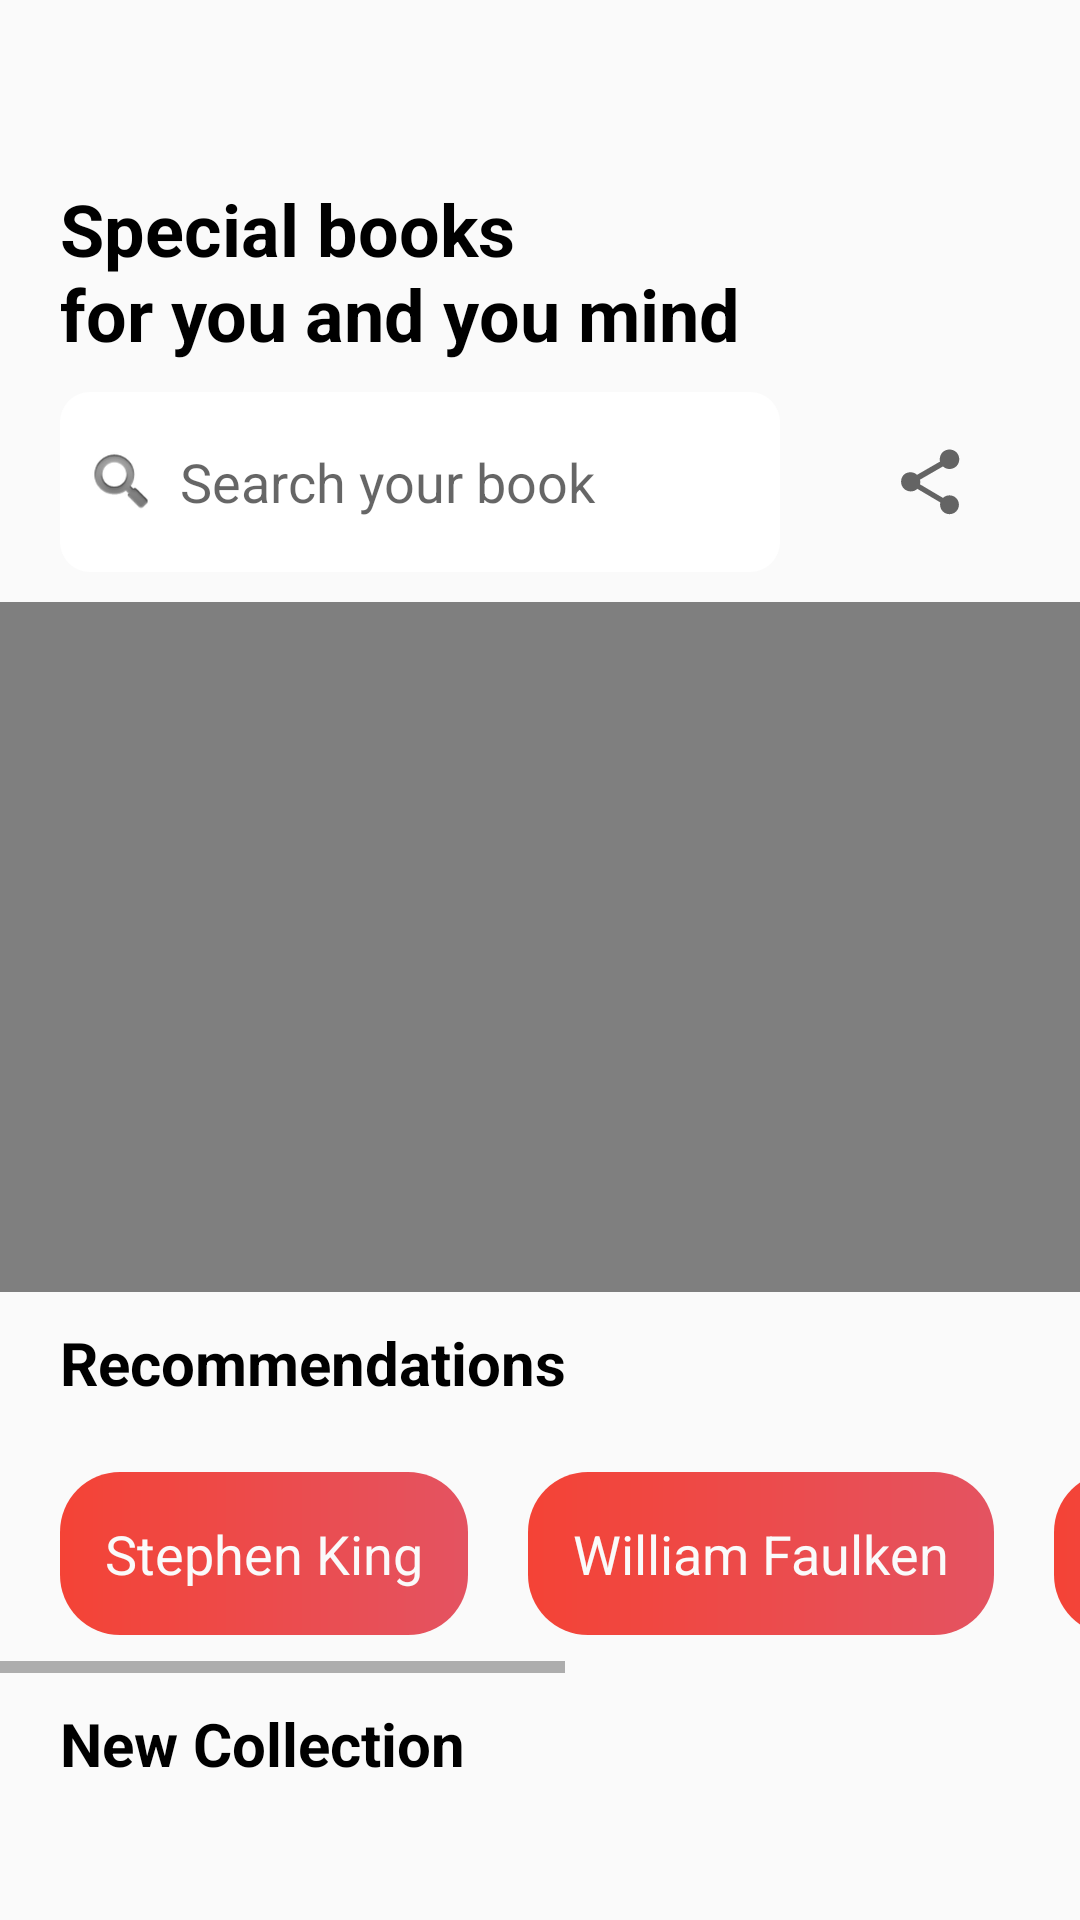

Icons on this 1080px×1920px Android screen, each with its box as (x1, y1, x2, y2):
search category: (94, 454, 148, 508)
